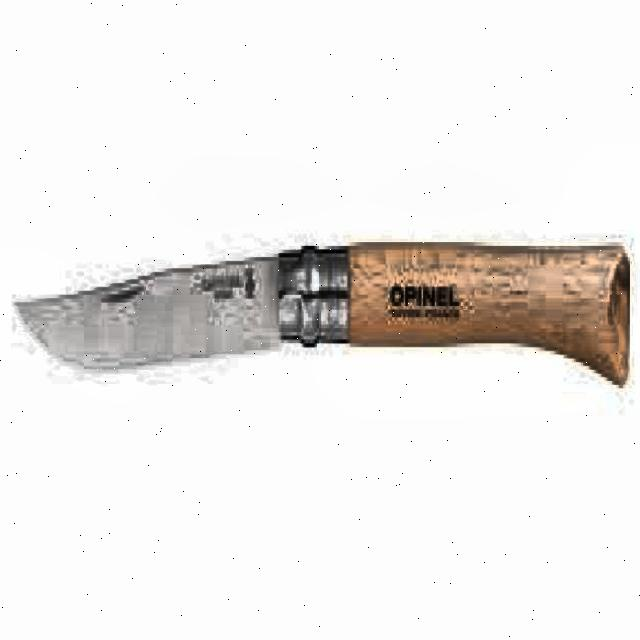knife: (8, 232, 640, 391)
